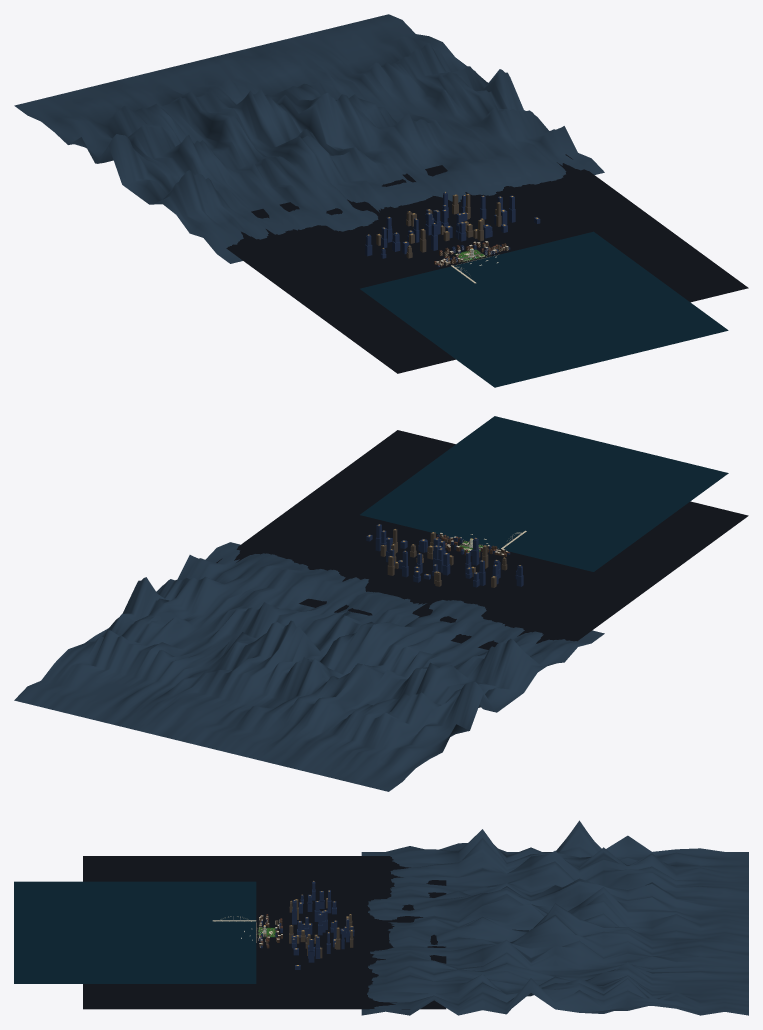
The model's file is hotel_site_old.glb.
3 views of the same model, one above another, from view 1: azimuth 30°, elevation 25°; view 2: azimuth 150°, elevation 25°; view 3: azimuth 270°, elevation 25° (orthographic). The views are drawn at different scales.
Parts seen in each view (by area): view 1: Hills_Ridge, Site_Ground, River_Water, Dist_Towers_cityc, Dist_Towers_citys; view 2: Hills_Ridge, Site_Ground, River_Water, Dist_Towers_cityc, Dist_Towers_citys; view 3: Hills_Ridge, Site_Ground, River_Water, Dist_Towers_cityc, Dist_Towers_citys.
Part boxes in pixels (x1,y1,x2,y2): Hills_Ridge: (14,14,604,263); Site_Ground: (226,154,748,373); River_Water: (360,231,728,387); Dist_Towers_cityc: (365,192,540,258); Dist_Towers_citys: (376,193,501,258); Hills_Ridge: (14,542,604,791); Site_Ground: (216,430,748,649); River_Water: (360,416,728,571); Dist_Towers_cityc: (366,524,523,587); Dist_Towers_citys: (380,529,507,587); Hills_Ridge: (361,820,748,1015); Site_Ground: (83,856,446,1009); River_Water: (14,881,256,983); Dist_Towers_cityc: (291,881,354,969); Dist_Towers_citys: (289,898,353,958).
Bounding box in the file's own units: 3200 × 342 × 6070.
Materials: 57 (1 with a texture image).
